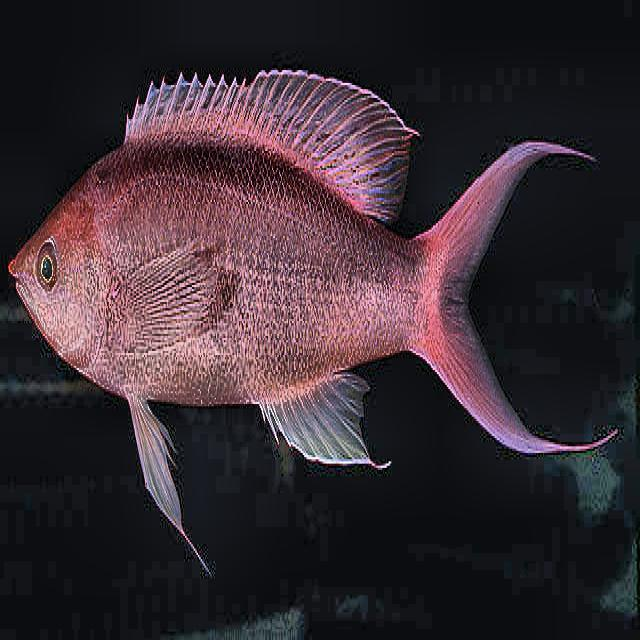fish: (7, 67, 618, 576)
